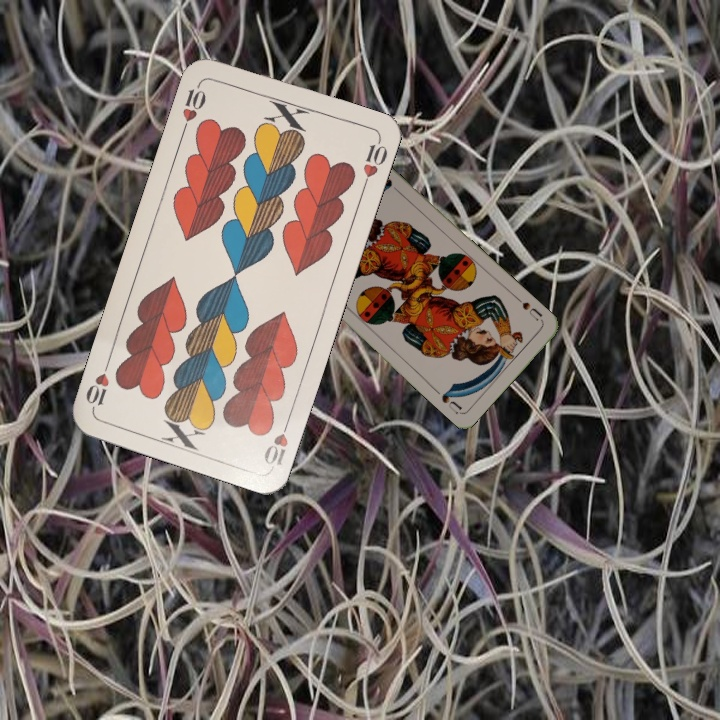H10: (259, 413, 293, 469), (178, 78, 209, 135)
SU: (512, 293, 545, 324)
